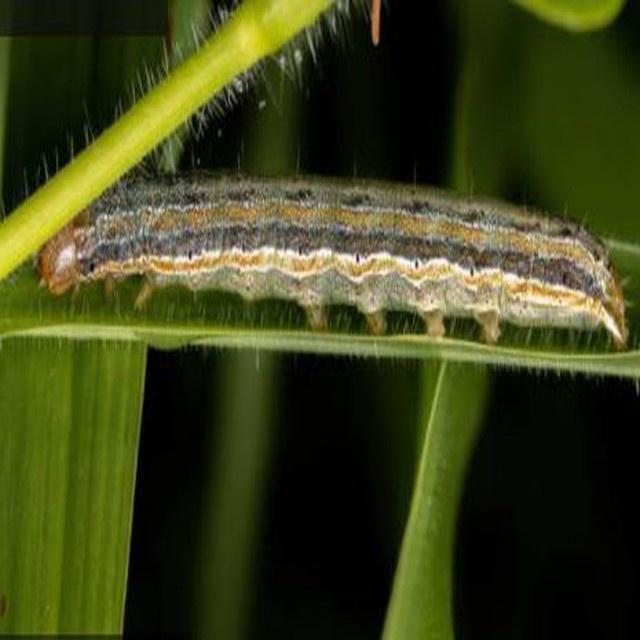gusano_cogollero: (33, 166, 640, 348)
